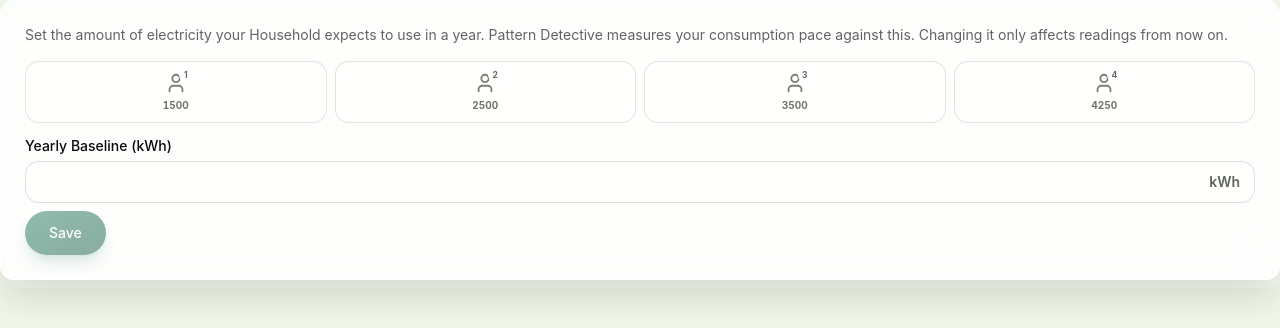
Test: YearlyBaselineForm › clicking a preset fills the input without submitting
The image size is (1280, 328).
Click the button "3 3500": (795,92) top-left (644, 61), bottom-right (946, 123)
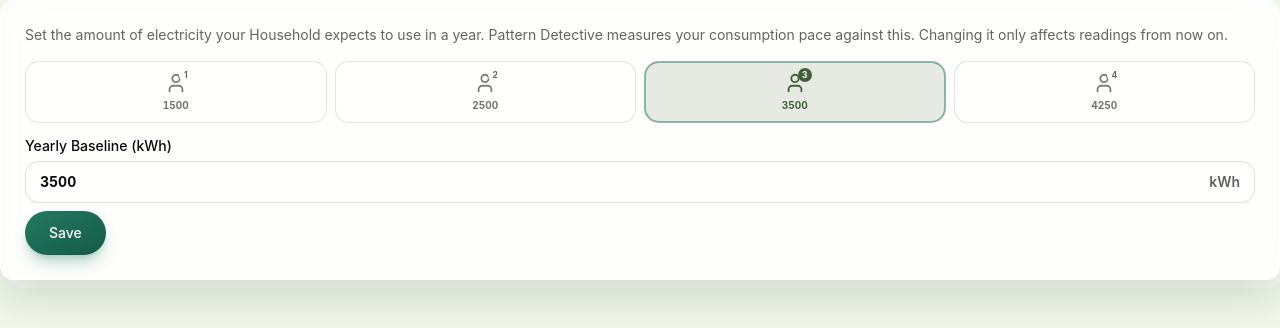
Check: the number field labelled "Yearly Baseline (kWh)" holds "3500", box top-left (40, 172), bottom-right (1203, 192)
